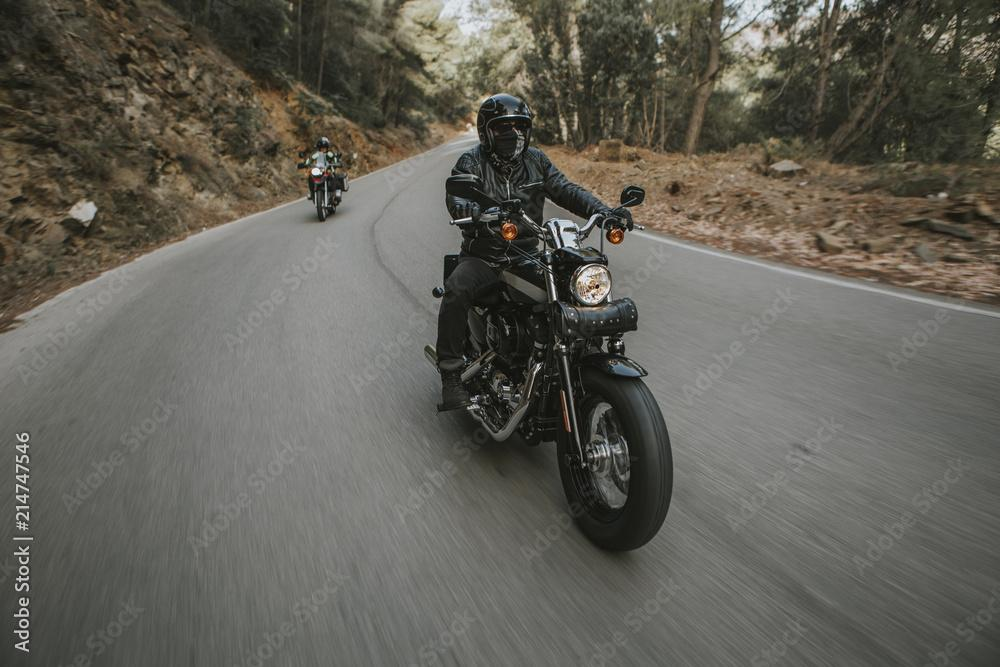helmet: (476, 92, 533, 163), (316, 136, 330, 154)
